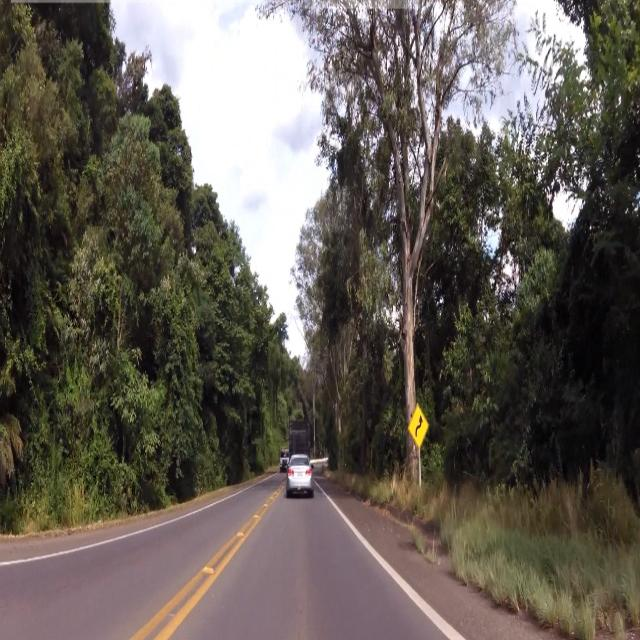A-4b: (409, 397, 435, 447)
